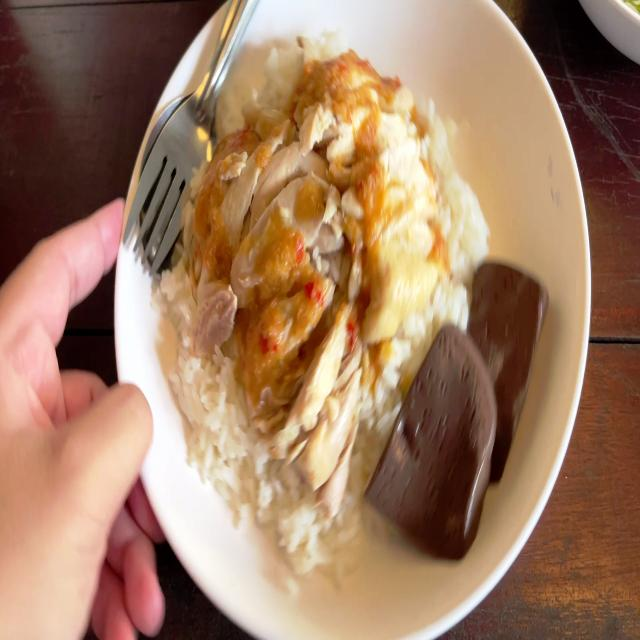boiled_chicken: (224, 120, 408, 421)
boiled_chicken_blood_jelly: (386, 334, 492, 529), (459, 254, 534, 467)
chicken_rice: (177, 32, 537, 580)
